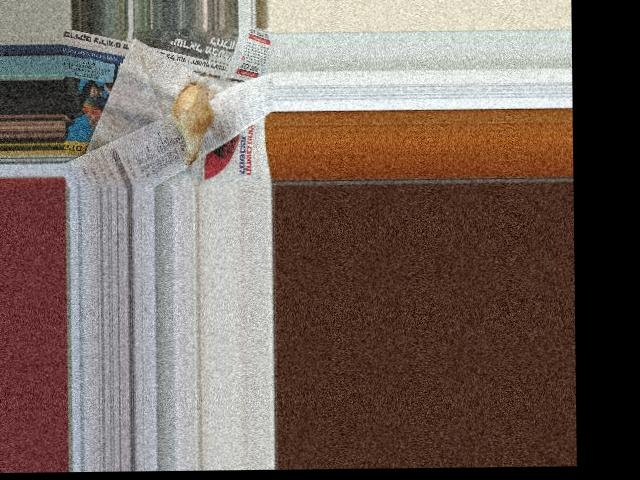onion: (168, 77, 212, 143)
